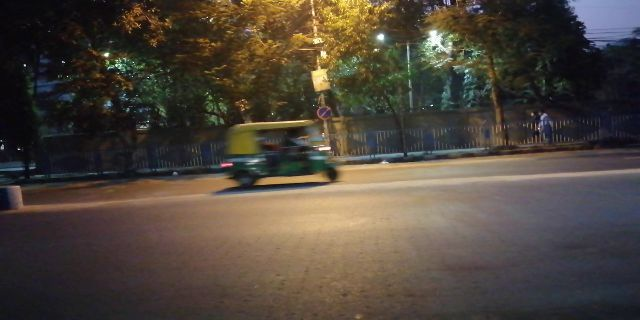Autorickshaw: (218, 122, 336, 187)
